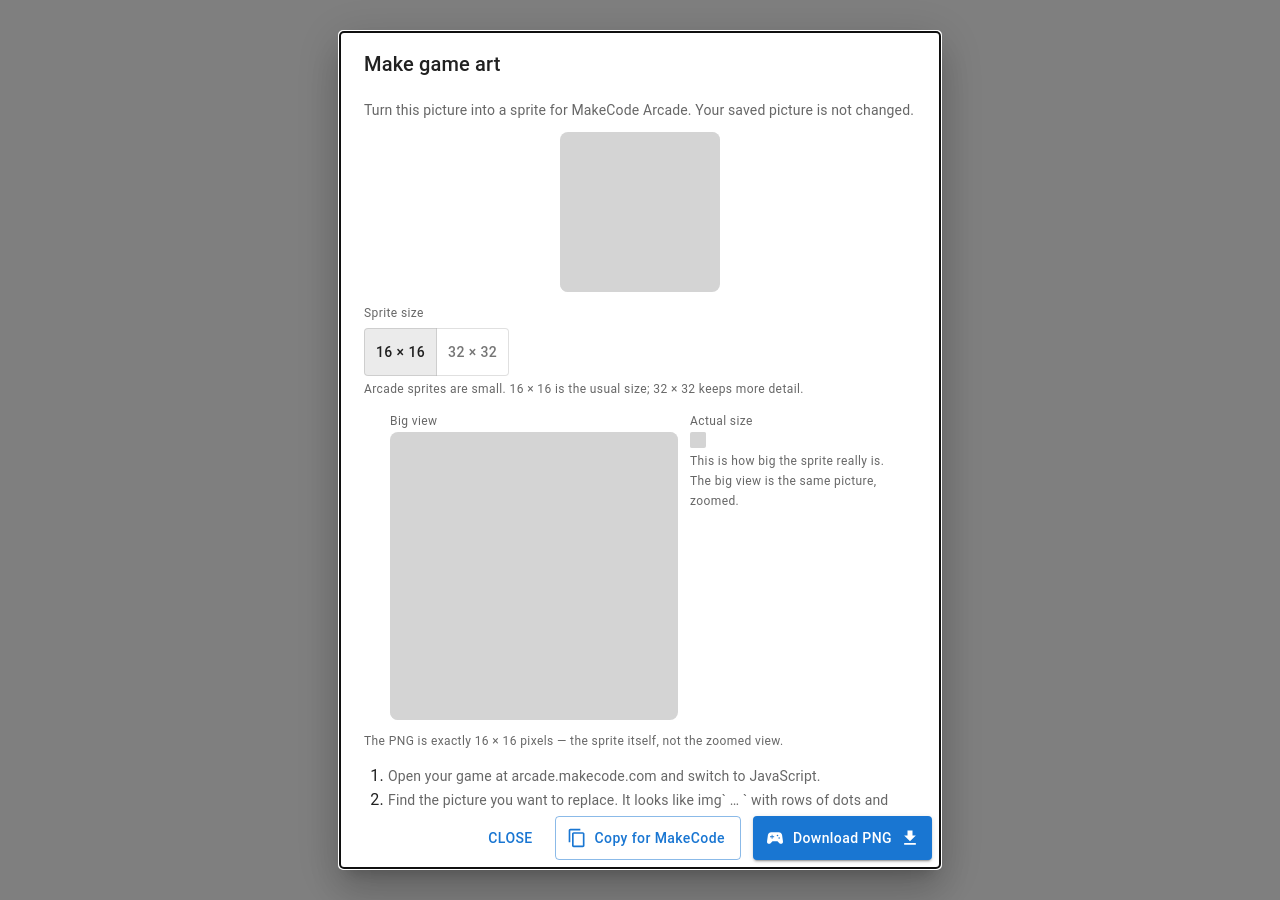
Test: copying › shows the receipt only after the clipboard write fulfils
Click the button "Copy for MakeCode". click: click(648, 838)
box: x1=554 y1=816 x2=741 y2=860
(page scrolled)
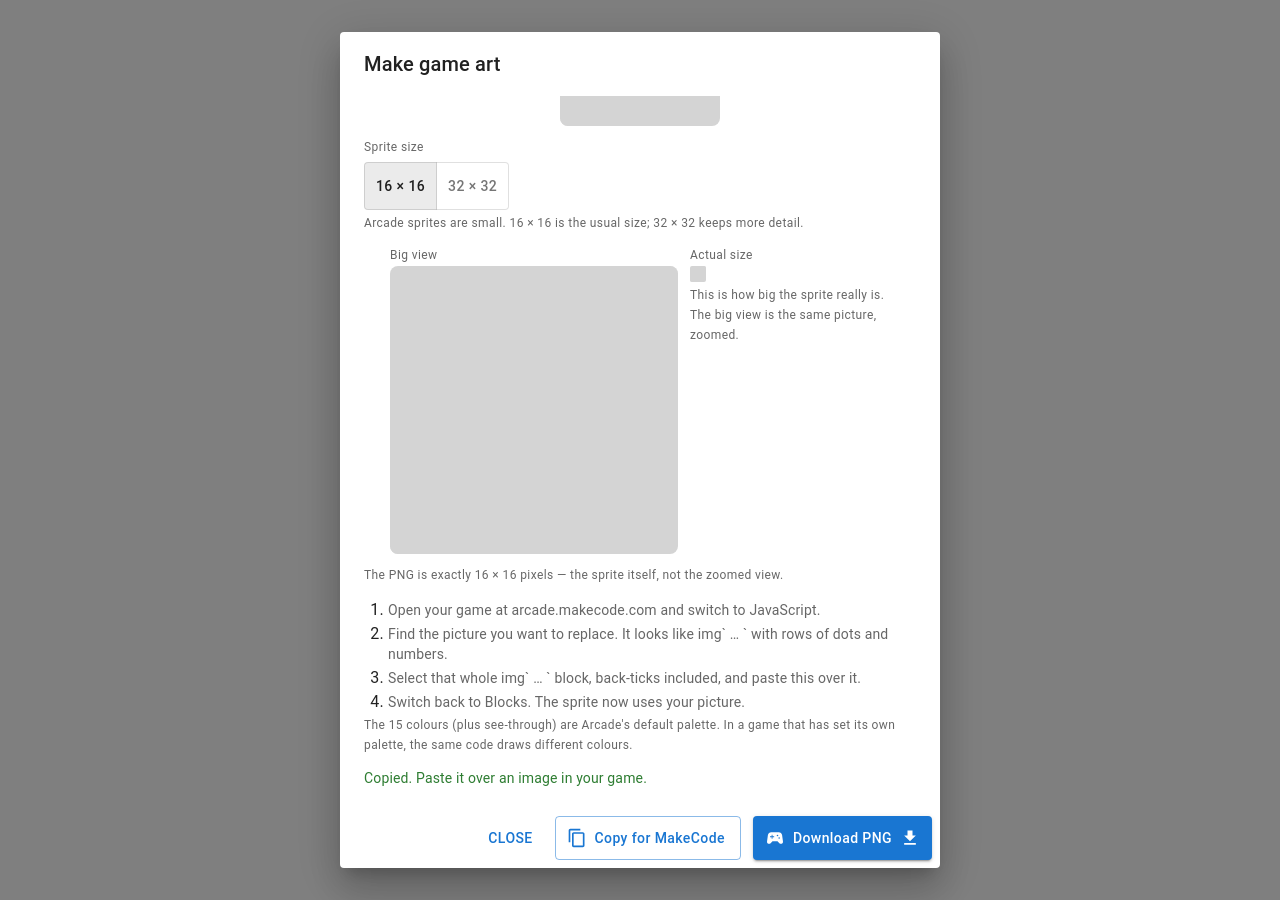
Check: the text "Copied. Paste it over an image in your game." is shown, box x1=364 y1=770 x2=647 y2=786
